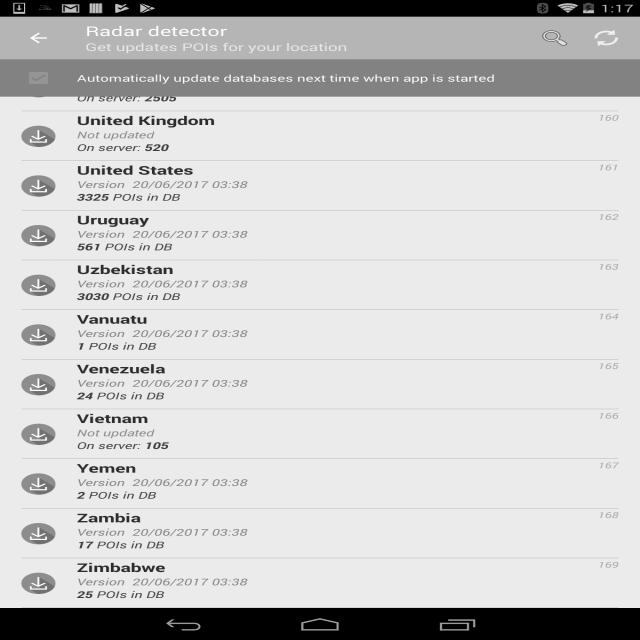CheckBox: (22, 67, 496, 89)
ImageButton: (9, 17, 68, 59)
ImageView: (22, 175, 56, 197), (22, 324, 56, 346), (22, 473, 56, 495), (22, 76, 56, 97), (22, 126, 56, 147), (22, 225, 56, 246), (22, 275, 56, 296), (22, 374, 56, 395), (22, 424, 56, 445), (22, 523, 56, 544), (22, 573, 56, 594)
TextView: (85, 40, 348, 54), (86, 22, 228, 40), (77, 178, 248, 191), (77, 277, 248, 290), (77, 327, 248, 340), (77, 476, 248, 489), (77, 575, 248, 588), (77, 112, 215, 128), (77, 228, 248, 240), (77, 377, 248, 389), (77, 526, 248, 538), (76, 162, 194, 178), (580, 22, 632, 54), (529, 22, 580, 54), (77, 261, 173, 277), (77, 360, 166, 377), (77, 559, 165, 575), (77, 290, 180, 303), (77, 91, 177, 104), (77, 191, 180, 203), (77, 240, 172, 253), (77, 211, 149, 228), (77, 141, 169, 154), (77, 439, 169, 452), (77, 311, 148, 327), (77, 410, 148, 426), (77, 389, 164, 402), (77, 538, 164, 551), (77, 588, 164, 601), (77, 509, 141, 526), (77, 128, 154, 141), (77, 426, 154, 439), (77, 340, 156, 352), (77, 489, 156, 501), (77, 460, 136, 476), (598, 310, 619, 322), (598, 112, 619, 123), (598, 261, 619, 272), (598, 361, 619, 372), (598, 410, 619, 421), (598, 559, 619, 570), (598, 162, 619, 172), (598, 212, 619, 222), (598, 460, 619, 470), (598, 510, 619, 520)
